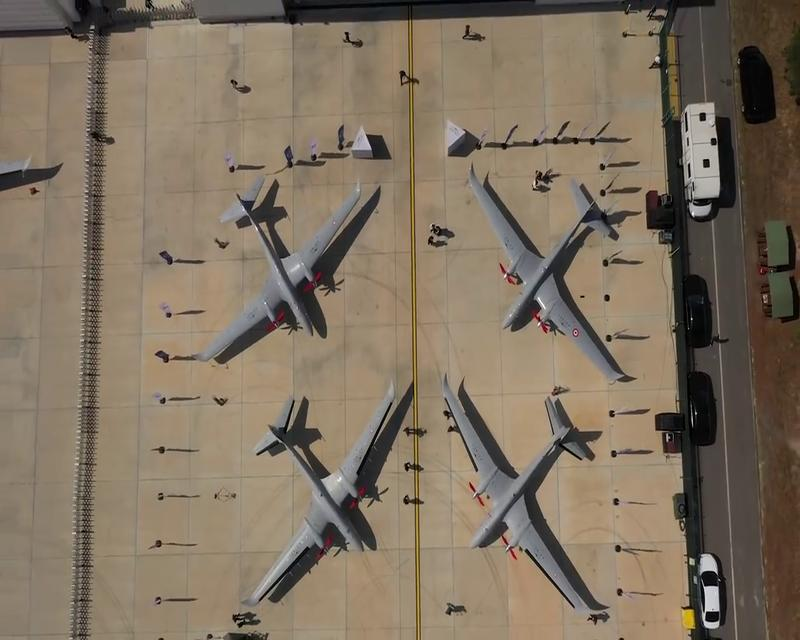UAV: (439, 372, 603, 614), (468, 163, 626, 381), (249, 382, 396, 605), (195, 177, 363, 364)
